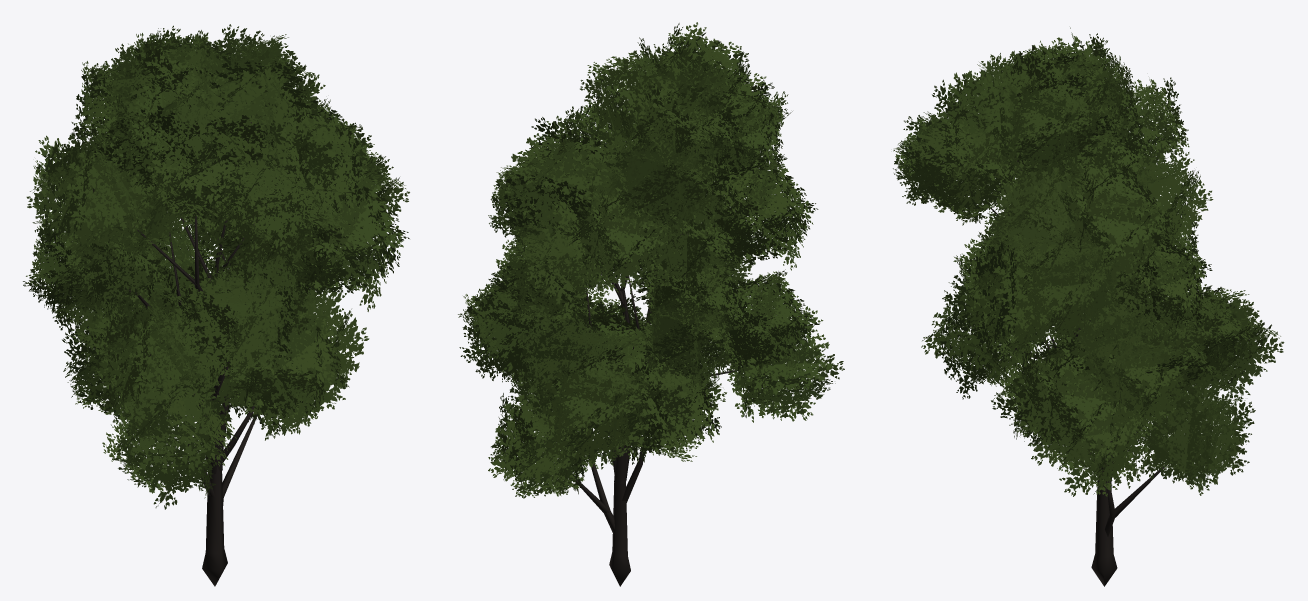
The model's file is tree_big_b.glb.
3 views of the same model, side by side, from view 1: azimuth 30°, elevation 25°; view 2: azimuth 150°, elevation 25°; view 3: azimuth 270°, elevation 25° (orthographic). The views are drawn at different scales.
Parts seen in each view (by area): view 1: Object_36, Object_35; view 2: Object_36, Object_35; view 3: Object_36, Object_35.
Part boxes in pixels (x1,y1,x2,y2): Object_36: [23, 24, 409, 509]; Object_35: [93, 122, 305, 586]; Object_36: [458, 22, 844, 498]; Object_35: [544, 189, 770, 586]; Object_36: [893, 27, 1284, 496]; Object_35: [963, 124, 1208, 586].
Size of the model in its own units: 11.64 by 17.38 by 12.06.
2 materials, 1 textured.
